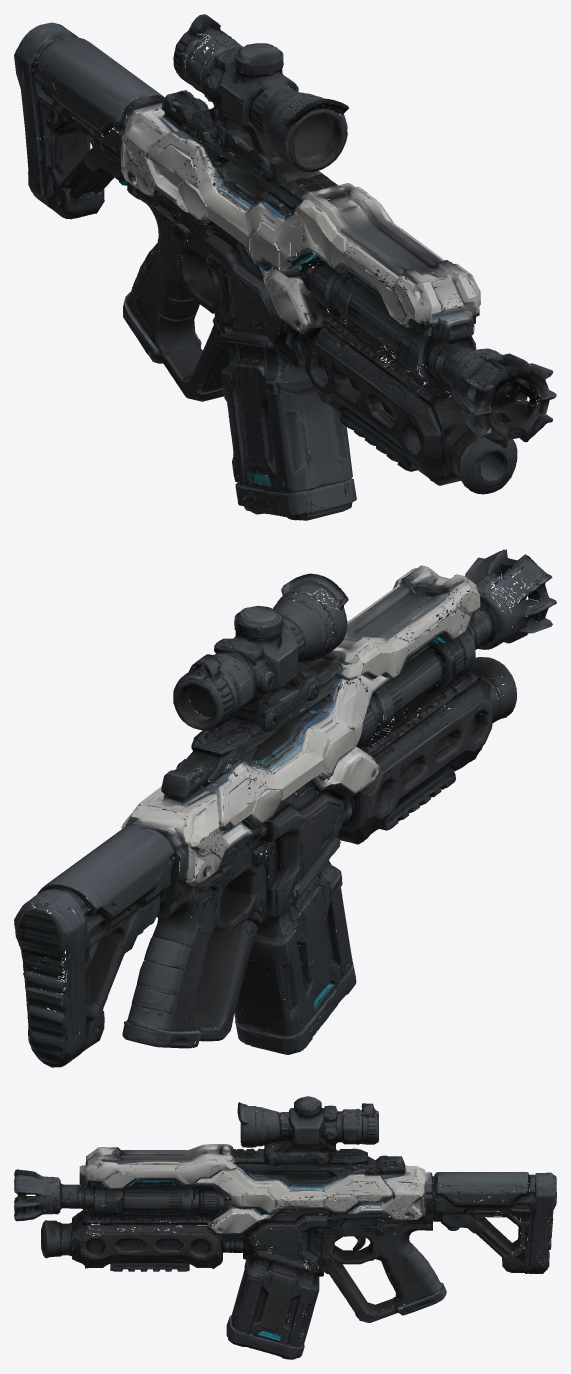
The model's file is em86b_viewmodel.glb.
3 views of the same model, one above another, from view 1: azimuth 30°, elevation 25°; view 2: azimuth 150°, elevation 25°; view 3: azimuth 270°, elevation 25° (orthographic). The views are drawn at different scales.
Visible parts, largest first — view 1: node_0; view 2: node_0; view 3: node_0.
Boxes of the visible parts, left/top/right/bottom form: node_0: left=14, top=14, right=556, bottom=520; node_0: left=14, top=549, right=556, bottom=1067; node_0: left=14, top=1096, right=556, bottom=1359.
Size of the model in its own units: 0.0953 by 0.4894 by 0.9502.
1 material, 1 textured.
